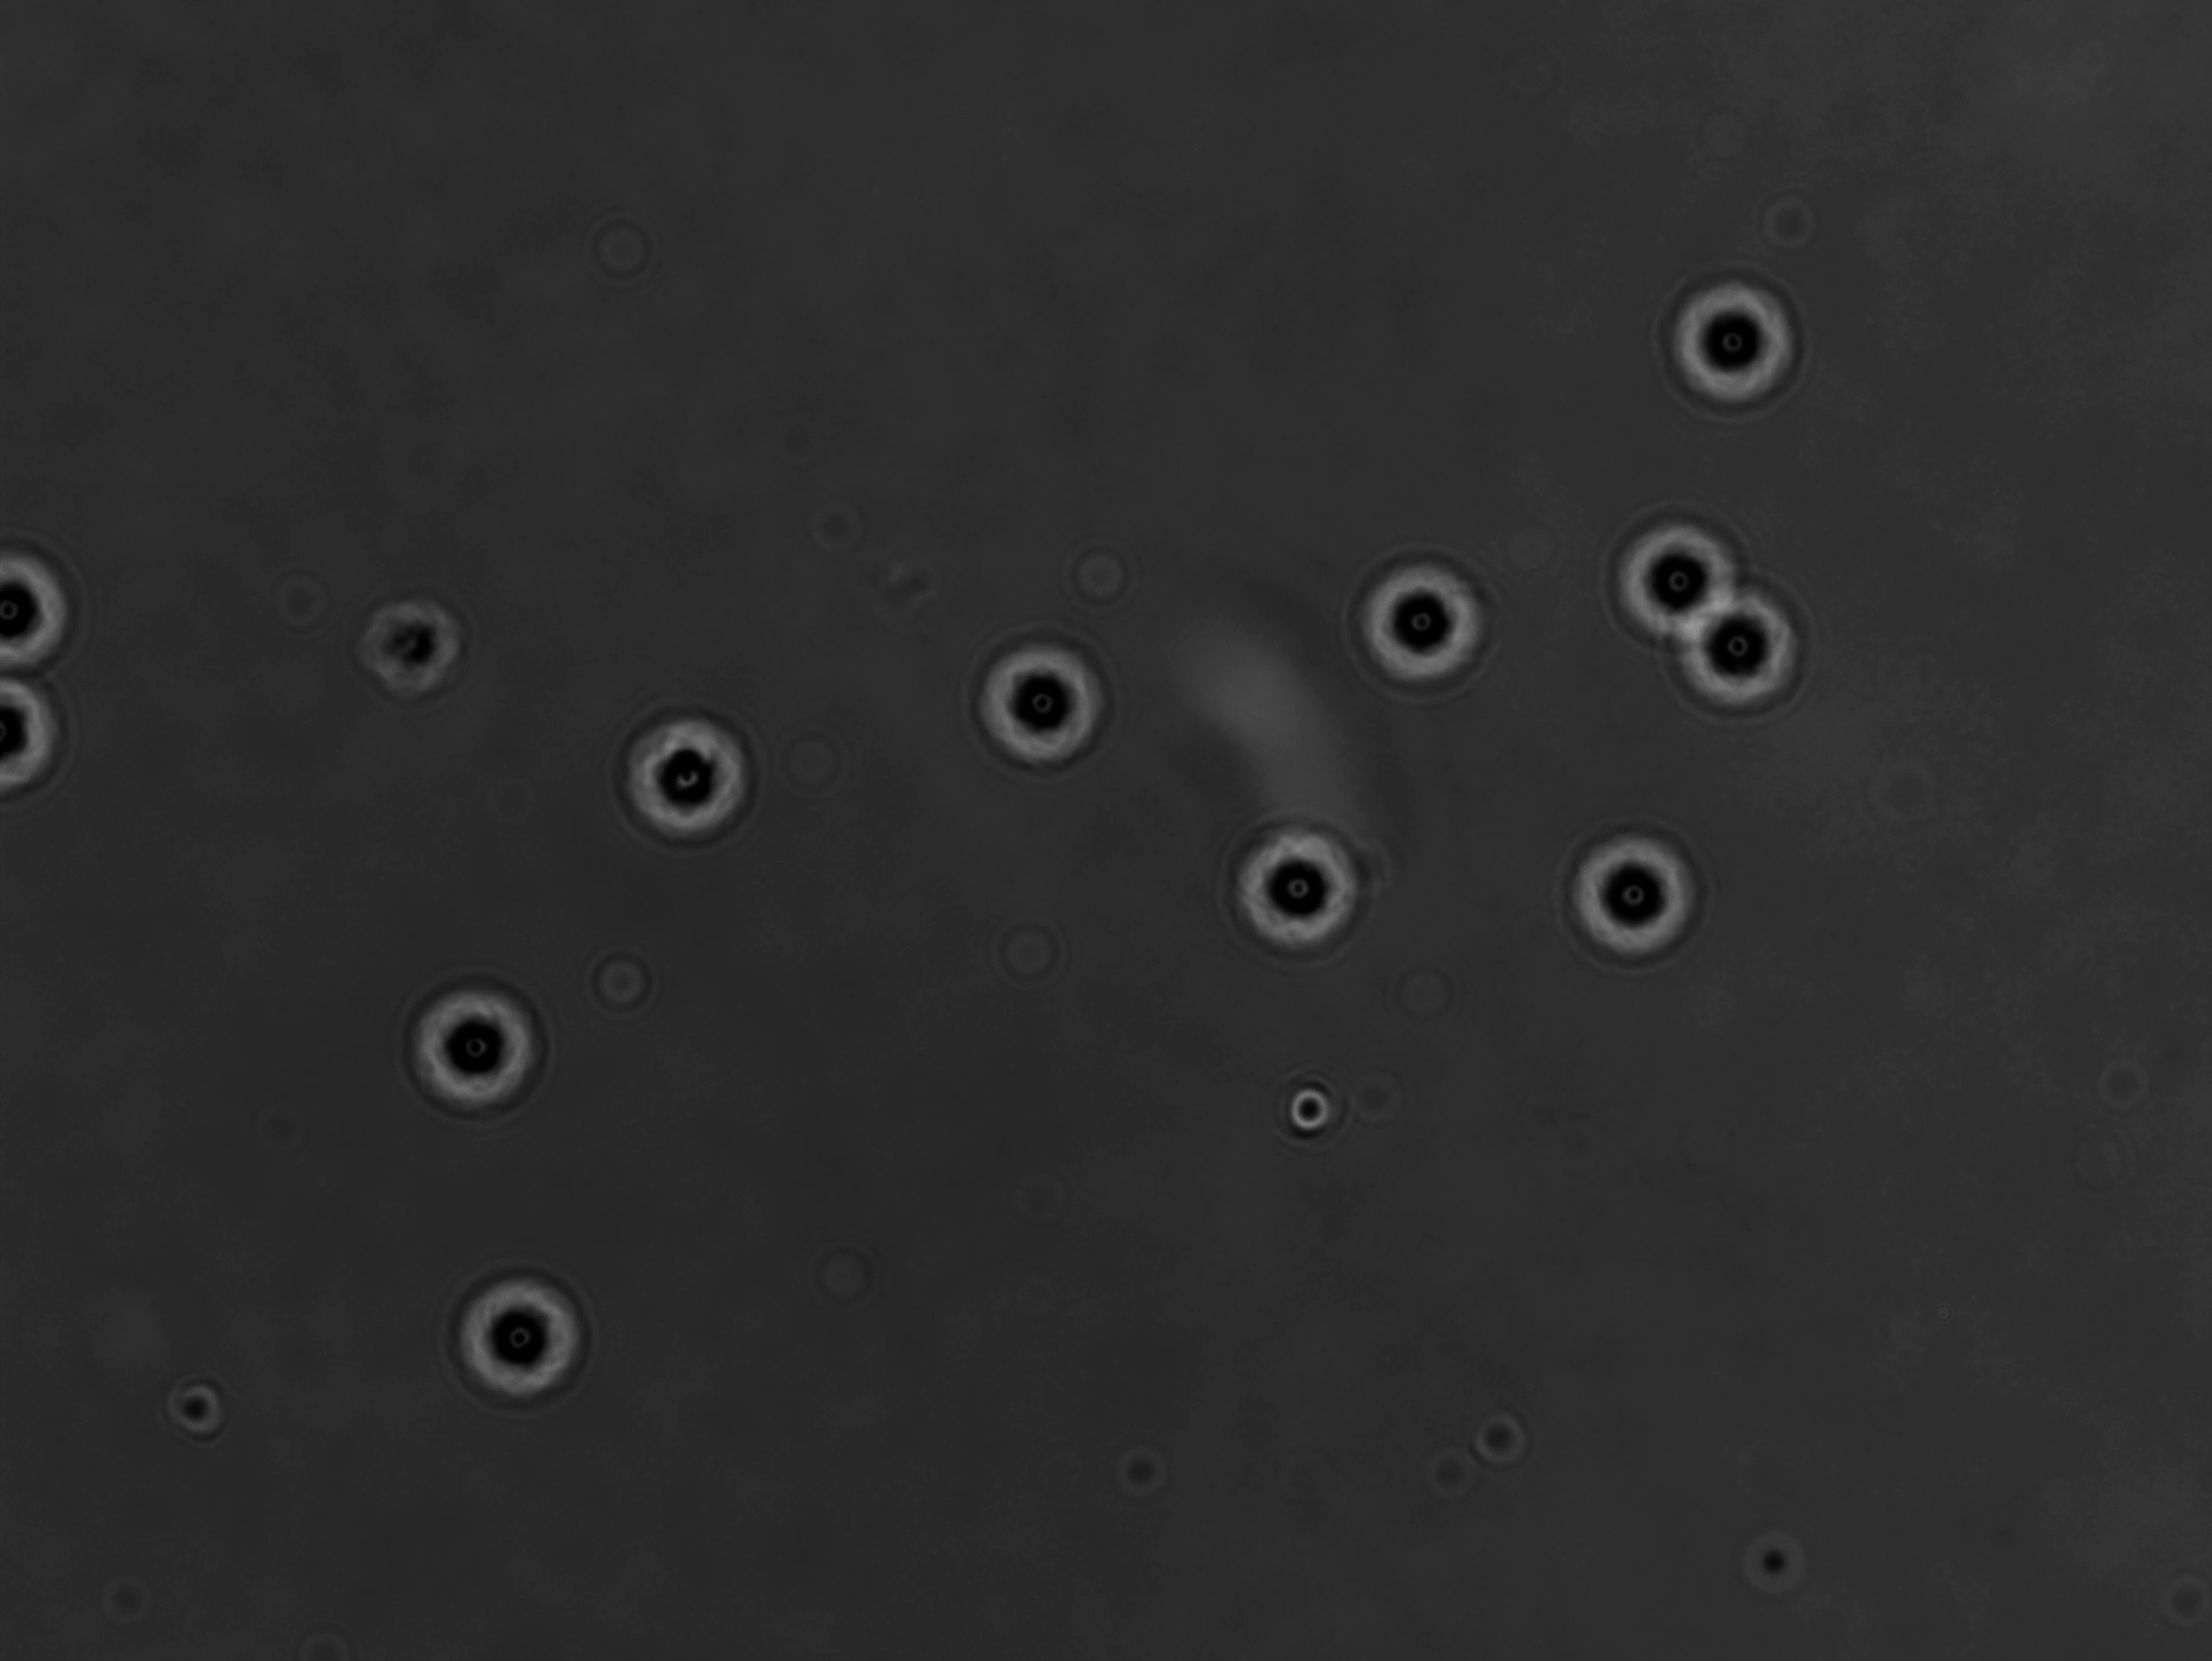depth:-20: (1542, 808, 1722, 979), (1647, 265, 1825, 434), (387, 956, 562, 1127), (590, 689, 771, 850), (1207, 803, 1380, 968), (434, 1246, 600, 1415), (961, 621, 1123, 787), (1338, 539, 1499, 696), (1601, 504, 1760, 658), (1671, 574, 1828, 728)
